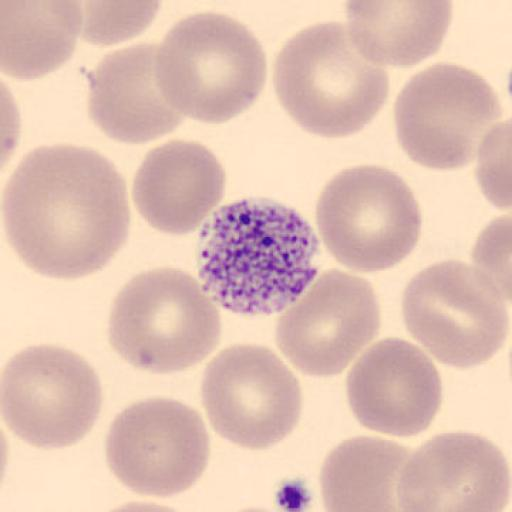Platelet: (194, 194, 324, 318)
RBC: (2, 143, 132, 283), (270, 19, 391, 140), (153, 10, 269, 125), (106, 265, 224, 377), (392, 60, 504, 173), (400, 258, 510, 371), (273, 266, 381, 380), (314, 163, 424, 274), (198, 342, 305, 452), (102, 394, 212, 500), (0, 342, 104, 452), (86, 41, 187, 145), (344, 336, 444, 438), (131, 137, 227, 237), (397, 430, 512, 512), (318, 434, 420, 511), (342, 0, 454, 69), (1, 0, 84, 82), (471, 211, 512, 324), (69, 0, 163, 47), (473, 116, 512, 213), (1, 76, 22, 178), (86, 498, 201, 512), (215, 503, 293, 512)
